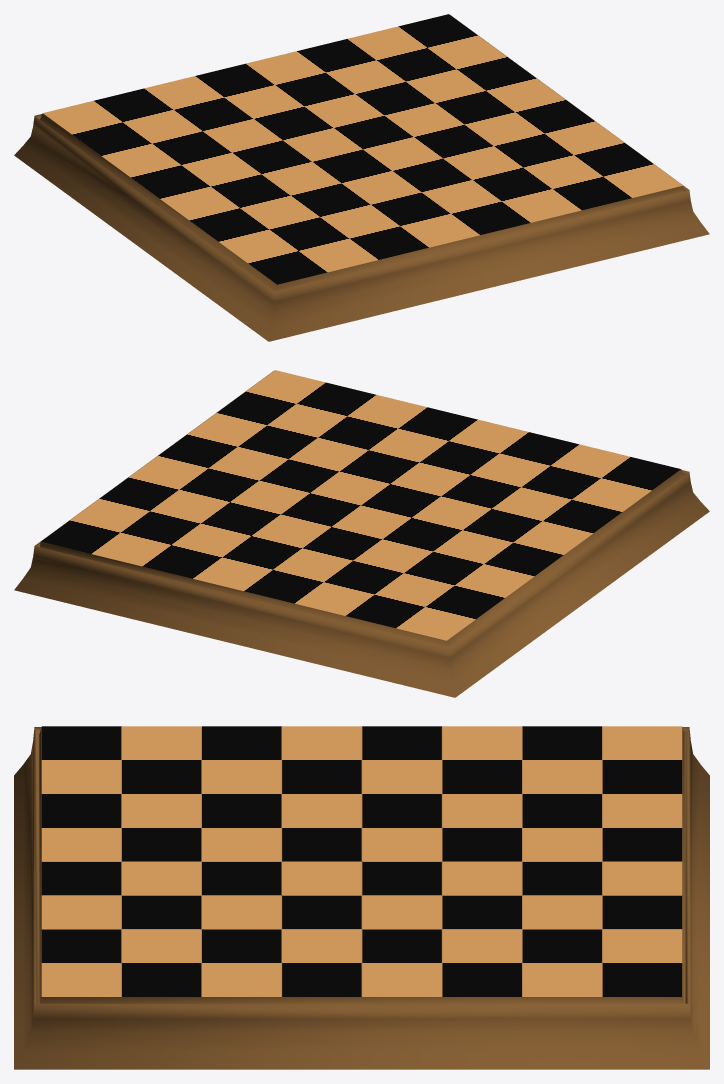
The model's file is Tabulero.fbx.
3 views of the same model, one above another, from view 1: azimuth 30°, elevation 25°; view 2: azimuth 150°, elevation 25°; view 3: azimuth 270°, elevation 25° (orthographic). The views are drawn at different scales.
Parts seen in each view (by area): view 1: Cube.001, Cube; view 2: Cube.001, Cube; view 3: Cube.001, Cube.
Boxes of the visible parts, x1,y1,x2,y2 form: Cube.001: (43, 14, 682, 284); Cube: (14, 15, 709, 341); Cube.001: (41, 370, 680, 640); Cube: (14, 371, 709, 697); Cube.001: (41, 726, 682, 996); Cube: (14, 727, 709, 1069).
Bounding box in the file's own units: 1719 × 168 × 1719.
